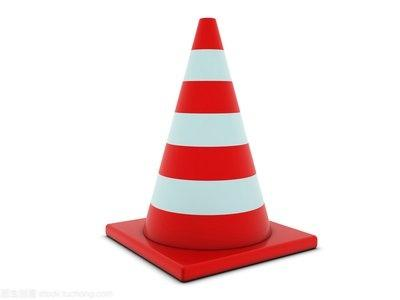cone_barrel: (131, 25, 285, 252)
